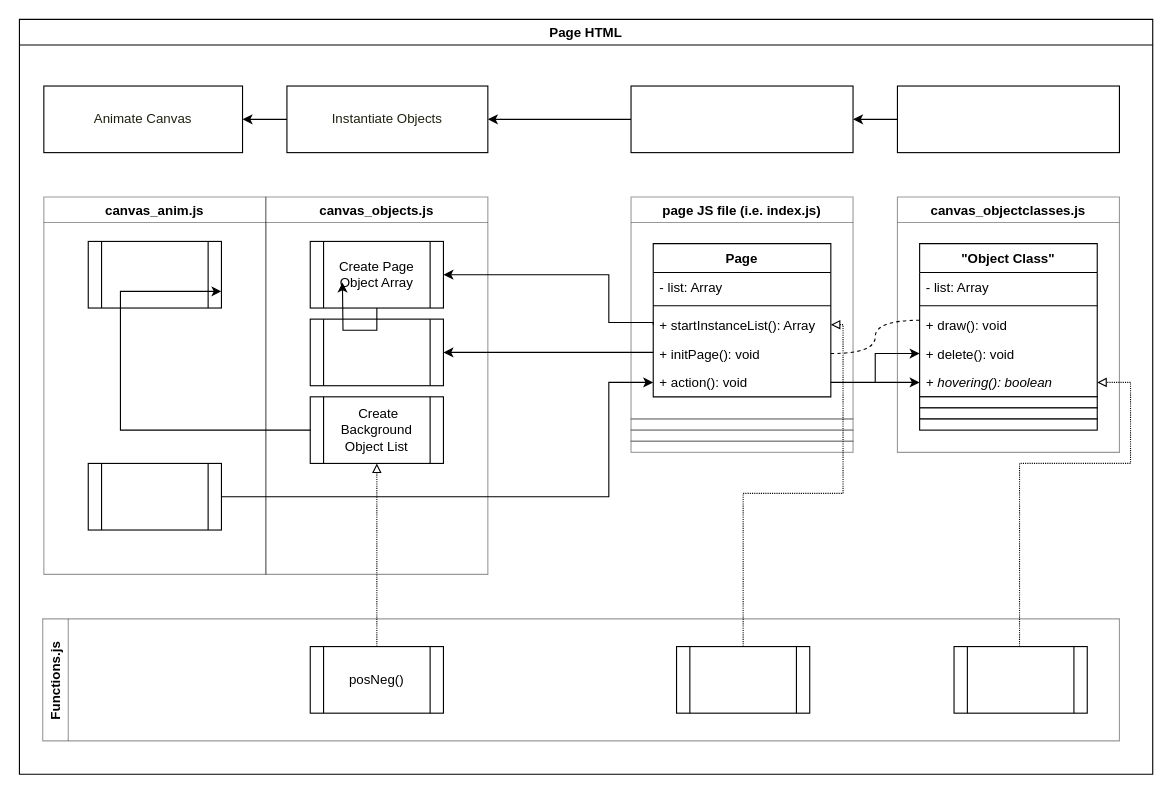
The diagram is 1172 pixels wide and 794 high, and some of its shapes have lost their labels. The centre of each missing label's shape, as x and y in pixels:
Animate Loop: the point at 154,274
Call Page initPage() Function: the point at 376,352
Click Listener: the point at 154,496
getRootDir(): the point at 742,679
isHovering(): the point at 1020,679
Reference Object Class: the point at 1007,119
Reference Page's Object List: the point at 741,119
